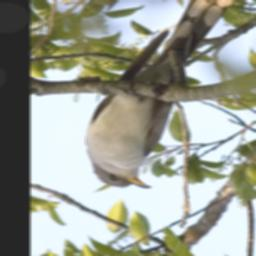Cuckoo: (85, 0, 235, 189)
